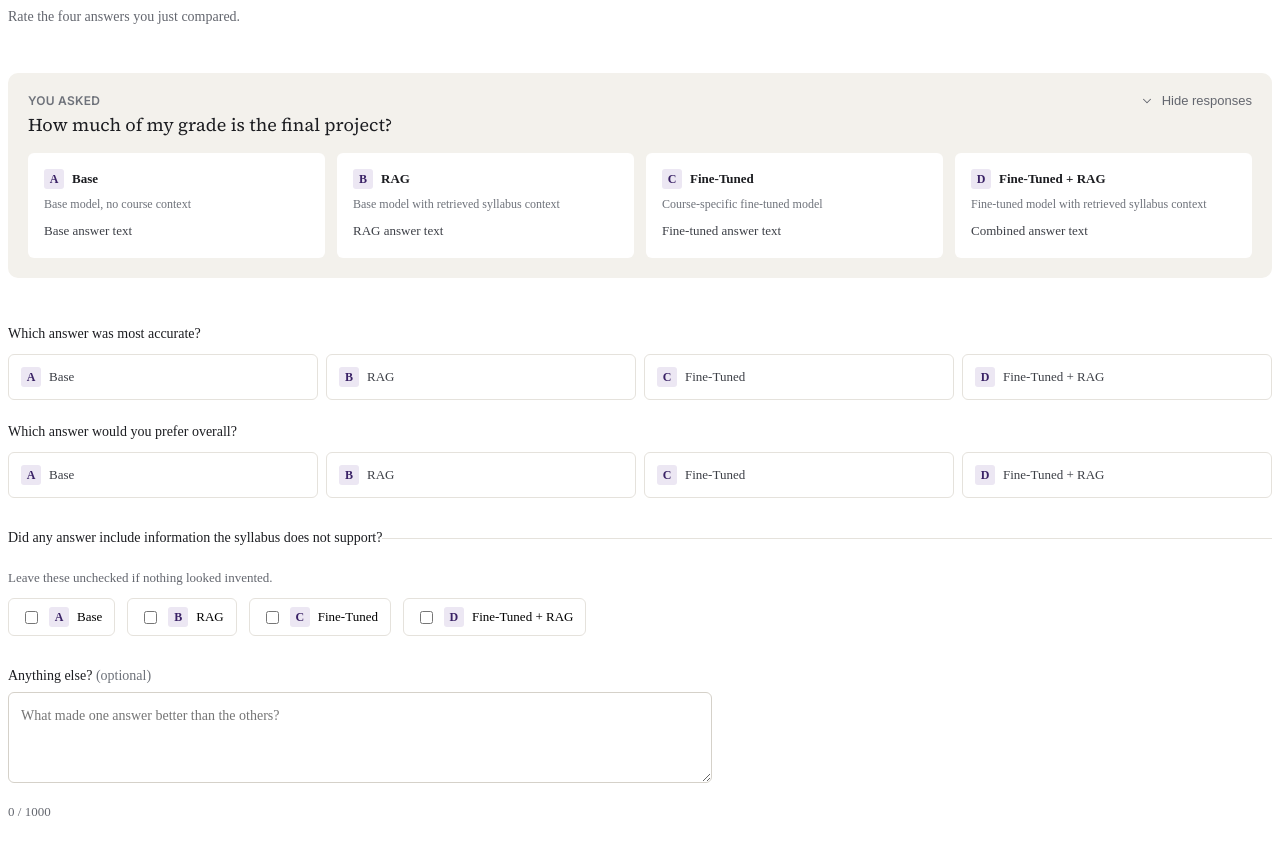
Test: Evaluate in an administrator preview › records a participant's rating exactly as before
Click the radio button labelled "B RAG" below "Which answer was most accurate?". click: click(349, 377)
box: top-left (326, 354), bottom-right (636, 400)
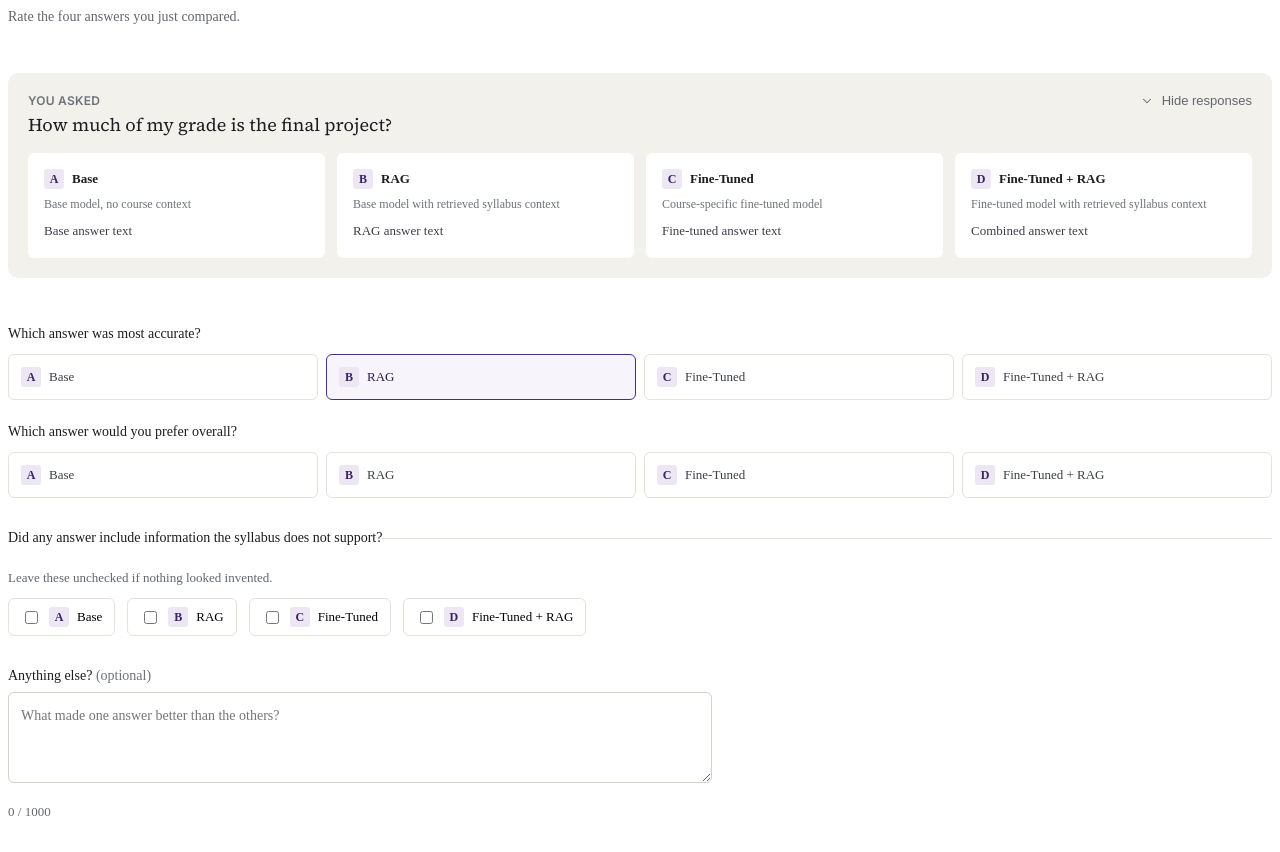
Click the radio button labelled "B RAG" below "Which answer would you prefer overall?". click: click(349, 475)
box: top-left (326, 452), bottom-right (636, 498)
(page scrolled)
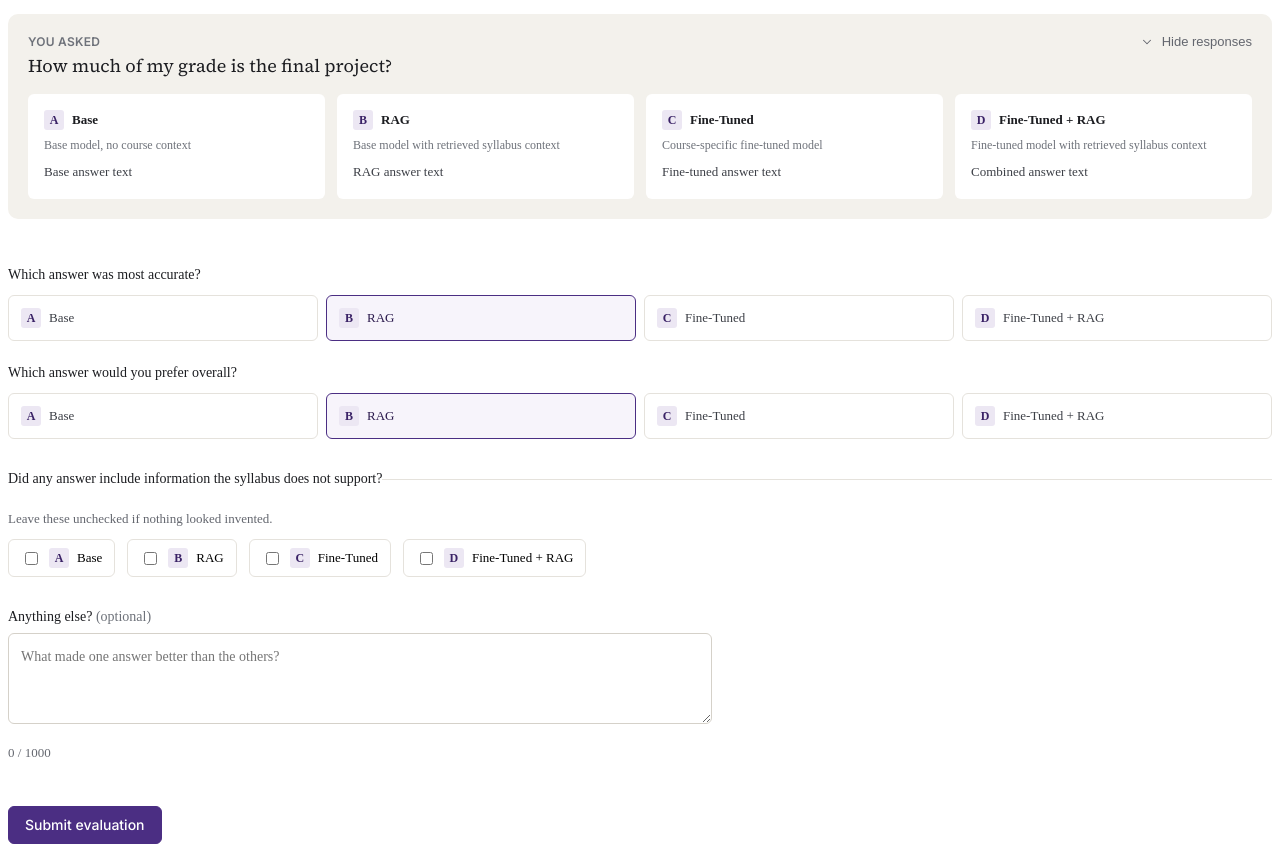
Click the button "Submit evaluation". click: click(85, 825)
box: top-left (8, 806), bottom-right (162, 844)
(page scrolled)
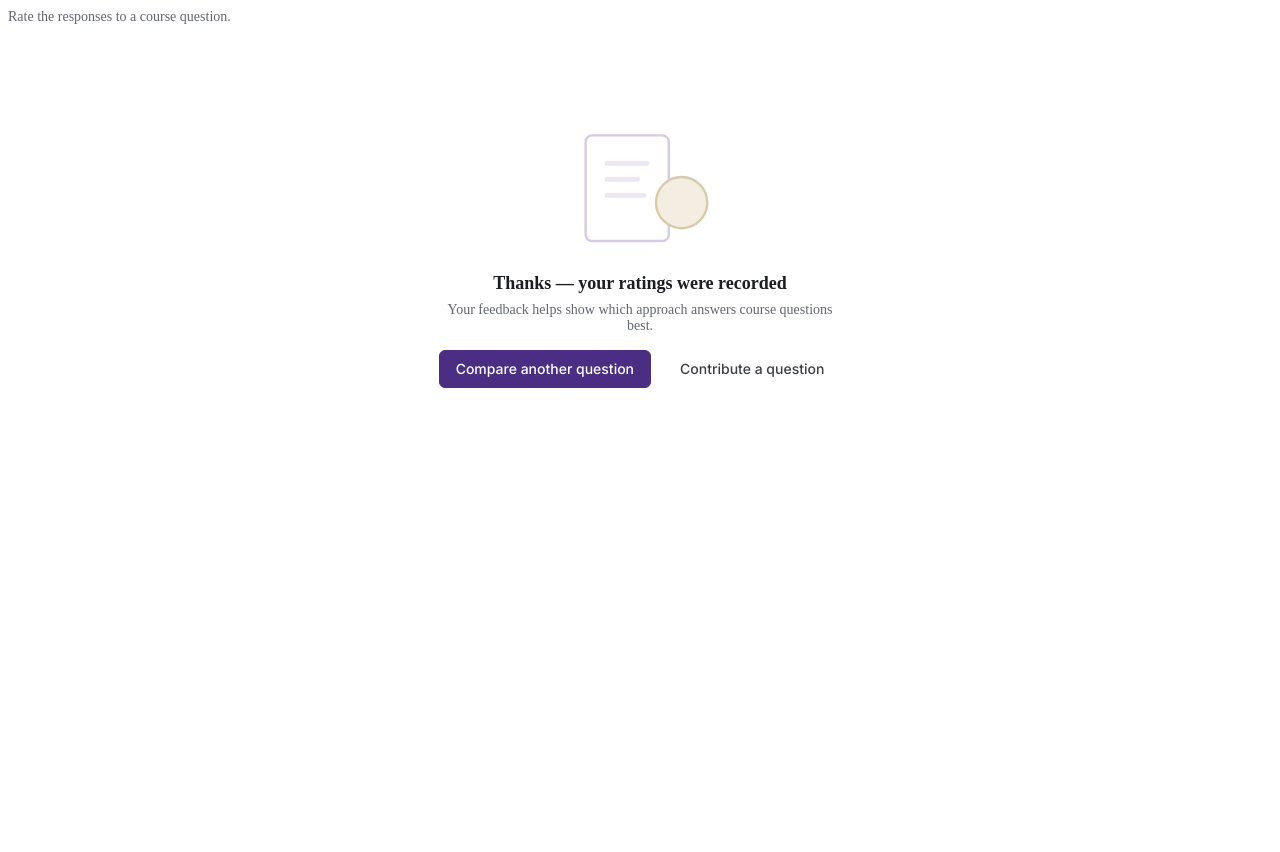
Expected: the text "Thanks — your ratings were recorded" is shown, top-left (493, 273), bottom-right (787, 294)
